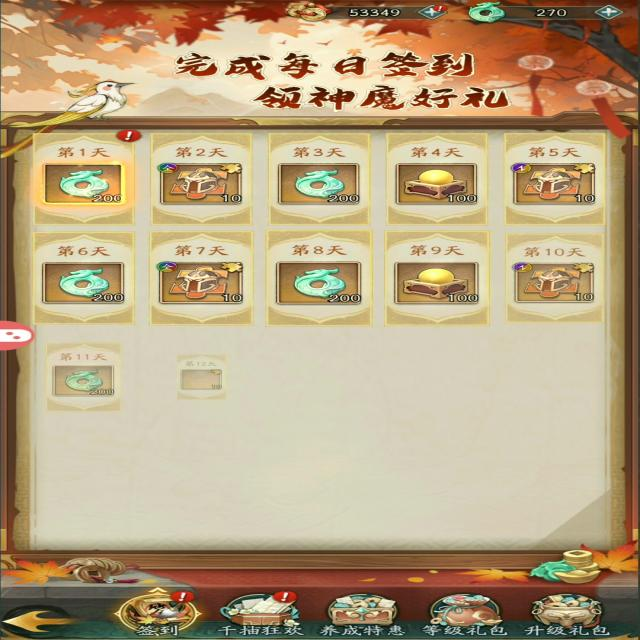hint-reddot: (166, 589, 200, 606), (269, 590, 302, 606), (105, 128, 136, 144), (430, 0, 450, 13)
operation-DevelopSpecialOffers: (321, 586, 414, 636)
operation-GradeGift: (418, 592, 512, 638)
operation-UpgradeGift: (519, 587, 614, 640)
operation-back: (0, 605, 82, 640)
operation-confirm: (36, 164, 136, 209)
operation-qianchoukuanghuan: (217, 585, 314, 640)
operation-signin: (105, 582, 208, 638)
